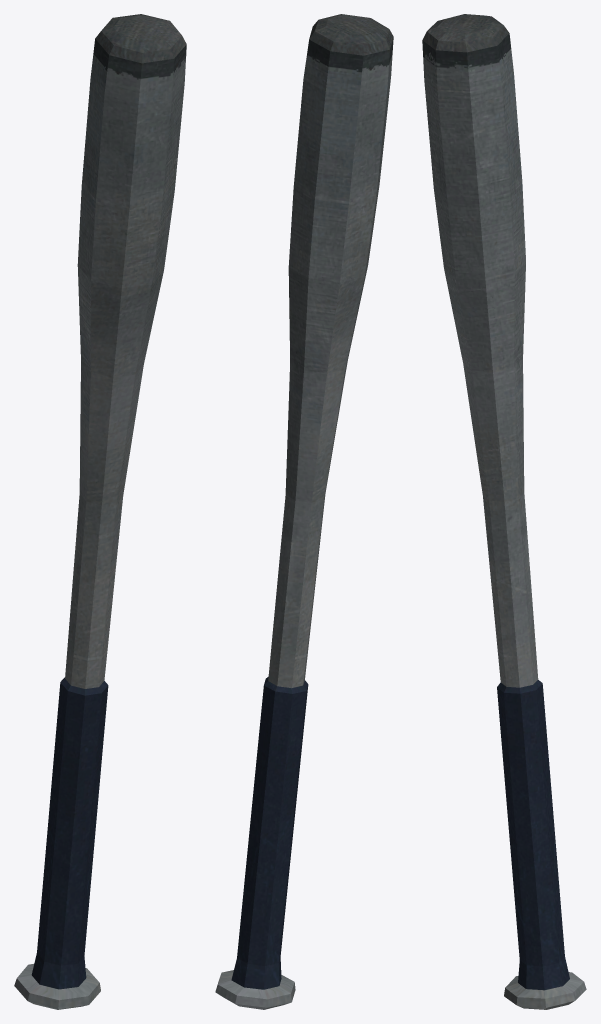
The model's file is w_bat.obj.
3 renders of one model, left to right at view 1: azimuth 90°, elevation 25°; view 2: azimuth 150°, elevation 25°; view 3: azimuth 270°, elevation 25°, orthographic. The views are drawn at different scales.
Visible parts, largest first — view 1: w_bat; view 2: w_bat; view 3: w_bat.
Boxes of the visible parts, x1,y1,x2,y2 form: w_bat: [14, 14, 186, 1009]; w_bat: [215, 14, 393, 1009]; w_bat: [422, 14, 586, 1009].
Bounding box in the file's own units: 0.1143 × 0.8052 × 0.126.
Materials: 1 (1 with a texture image).
